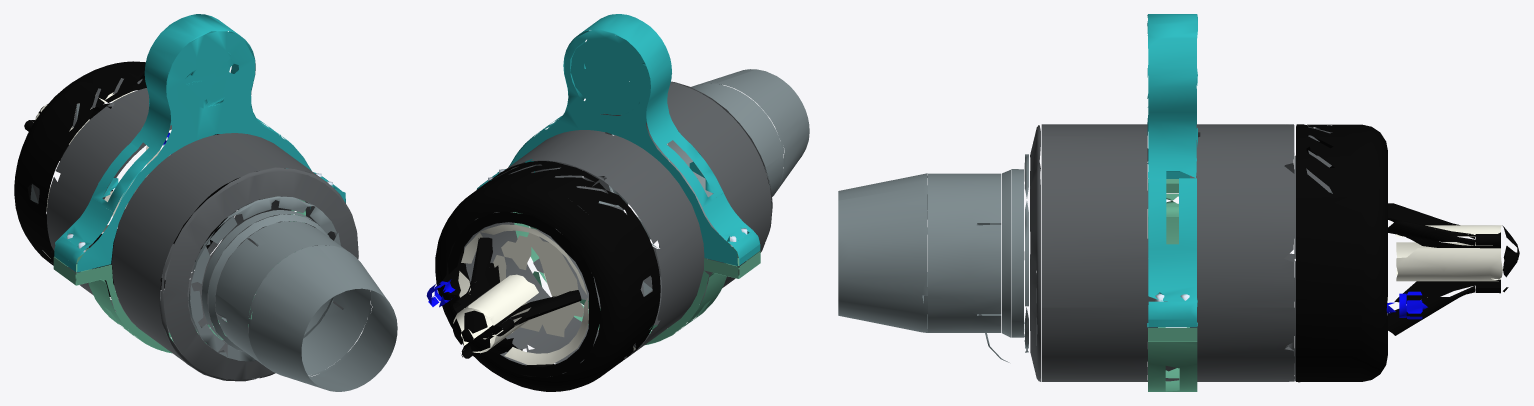
File: sim_sea_l_jet_turbine.obj
The picture shows the model from 3 angles, left to right: view 1: azimuth 30°, elevation 25°; view 2: azimuth 150°, elevation 25°; view 3: azimuth 270°, elevation 25°; orthographic projection. The views are drawn at different scales.
Bounding box in the file's own units: 166 × 188 × 322.
